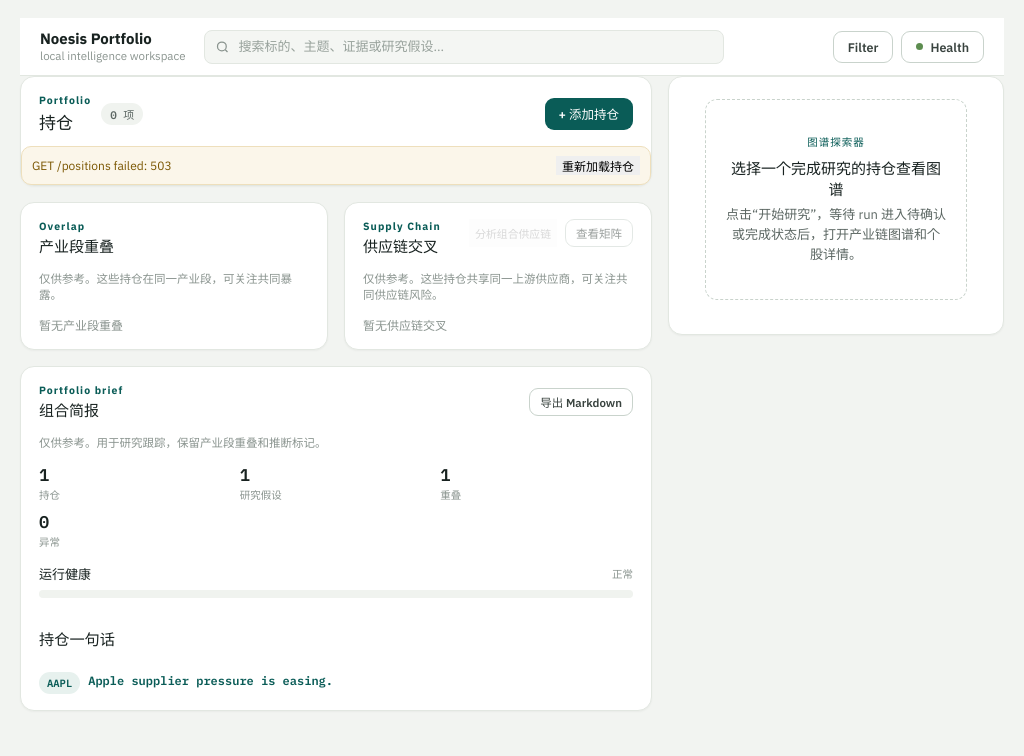
PortfolioHome › retries loading positions after an API failure
Expected: the text "GET /positions failed: 503" is shown, [32, 158, 172, 173]
Click the button "重新加载持仓": (598, 166) [556, 156, 640, 175]
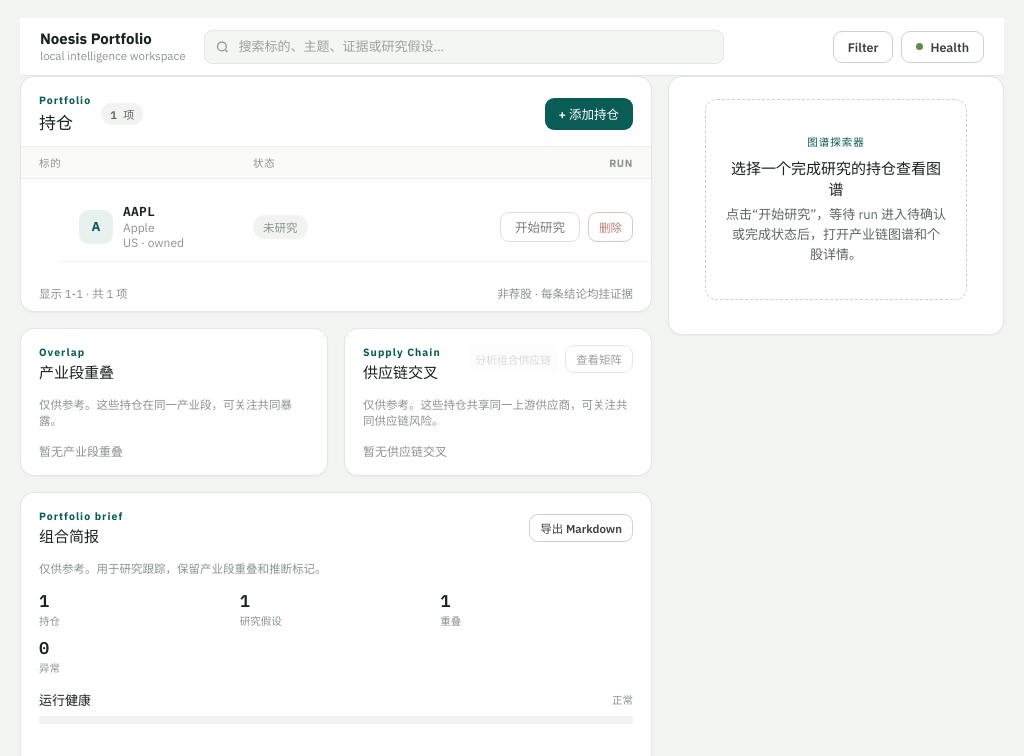
Expected: the text "AAPL" is shown, [123, 203, 155, 220]
